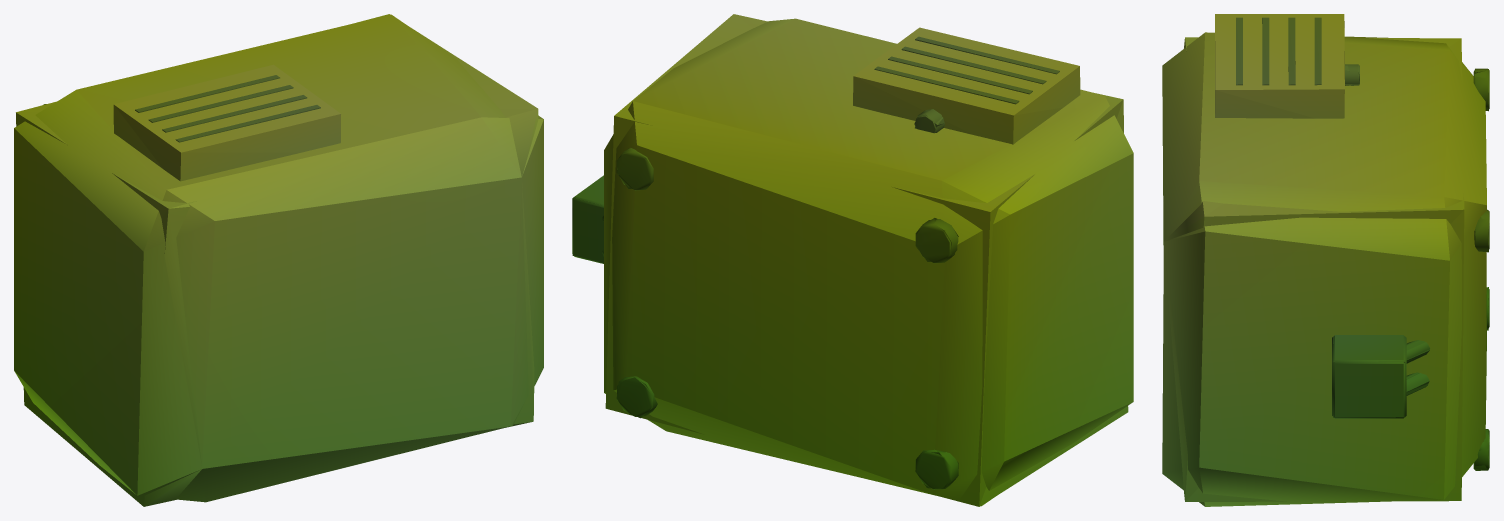
The model's file is RCLModule_scout_tank_desert_camo_sponsons_LODs.fbx.
3 views of the same model, side by side, from view 1: azimuth 30°, elevation 25°; view 2: azimuth 150°, elevation 25°; view 3: azimuth 270°, elevation 25° (orthographic). The views are drawn at different scales.
Visible parts, largest first — view 1: LOD1_RCLModule_scout_tank_desert_camo_sponsons_Batch_RCLModu (×2), LOD2_RCLModule_scout_tank_desert_camo_sponsons_Batch_RCLModu; view 2: LOD1_RCLModule_scout_tank_desert_camo_sponsons_Batch_RCLModu (×2), LOD2_RCLModule_scout_tank_desert_camo_sponsons_Batch_RCLModu (×2); view 3: LOD1_RCLModule_scout_tank_desert_camo_sponsons_Batch_RCLModu (×2), LOD2_RCLModule_scout_tank_desert_camo_sponsons_Batch_RCLModu (×2).
Part boxes in pixels (left/top/right/bottom): LOD1_RCLModule_scout_tank_desert_camo_sponsons_Batch_RCLModu (×2): left=14, top=14, right=543, bottom=502; LOD2_RCLModule_scout_tank_desert_camo_sponsons_Batch_RCLModu: left=16, top=14, right=538, bottom=506; LOD1_RCLModule_scout_tank_desert_camo_sponsons_Batch_RCLModu (×2): left=572, top=18, right=1133, bottom=506; LOD2_RCLModule_scout_tank_desert_camo_sponsons_Batch_RCLModu (×2): left=572, top=14, right=1128, bottom=506; LOD1_RCLModule_scout_tank_desert_camo_sponsons_Batch_RCLModu (×2): left=1162, top=14, right=1489, bottom=506; LOD2_RCLModule_scout_tank_desert_camo_sponsons_Batch_RCLModu (×2): left=1164, top=37, right=1488, bottom=501.
Size of the model in its own units: 51.59 by 39.11 by 32.93.
